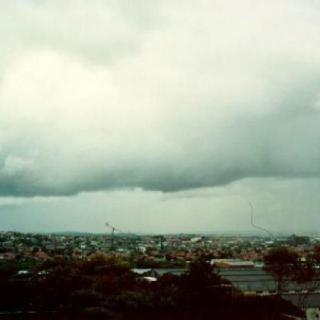Stratocumulus: (0, 0, 320, 193)
